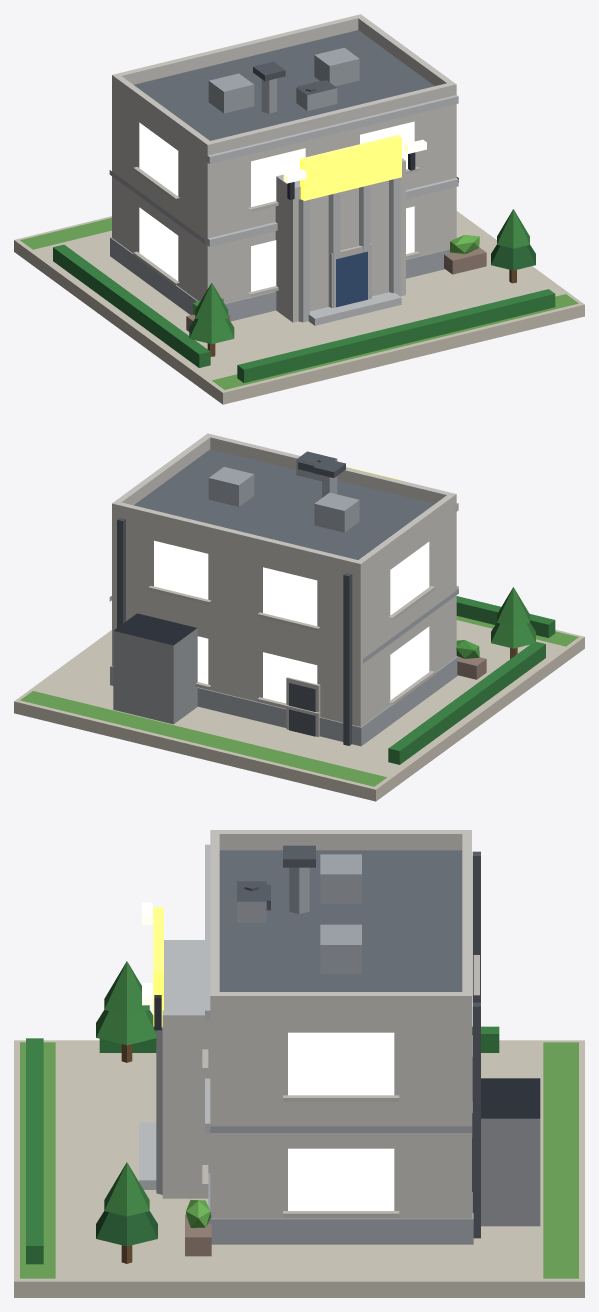
3 views of the same model, one above another, from view 1: azimuth 30°, elevation 25°; view 2: azimuth 150°, elevation 25°; view 3: azimuth 270°, elevation 25° (orthographic). The views are drawn at different scales.
Visible parts, largest first — view 1: b17; view 2: b17; view 3: b17.
Boxes of the visible parts, x1,y1,x2,y2 form: b17: (14, 14, 584, 404); b17: (14, 433, 584, 801); b17: (14, 830, 584, 1297).
Bounding box in the file's own units: 0.96 × 0.565 × 0.96.
